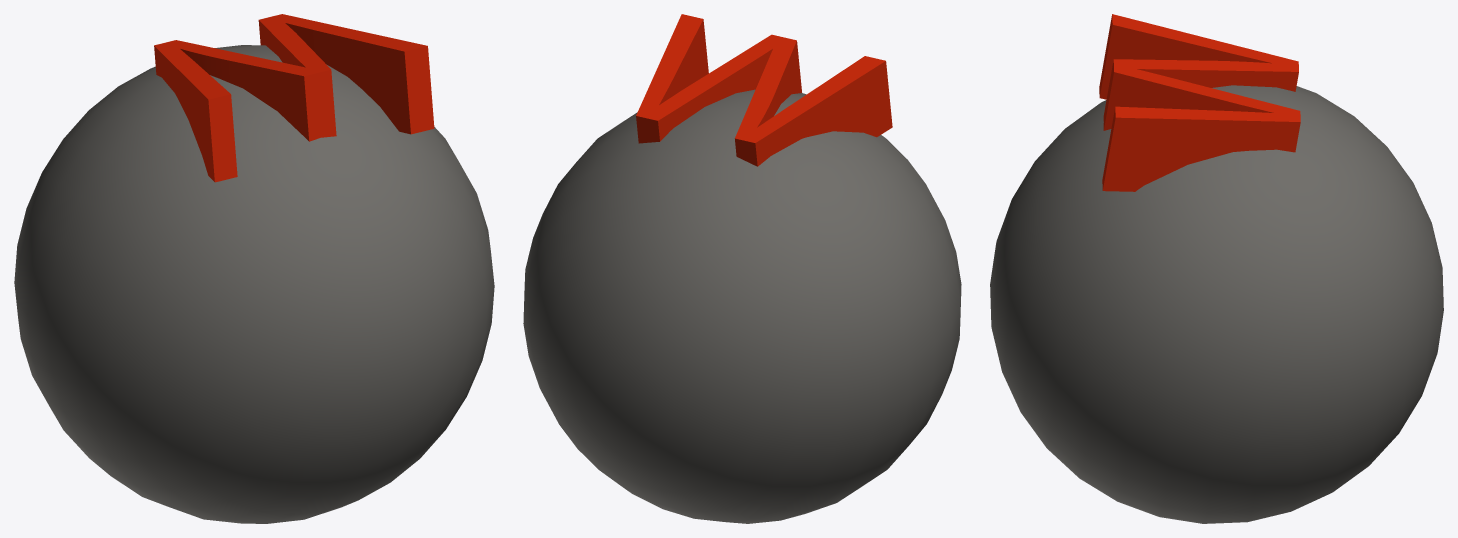
The picture shows the model from 3 angles, left to right: view 1: azimuth 30°, elevation 25°; view 2: azimuth 150°, elevation 25°; view 3: azimuth 270°, elevation 25°; orthographic projection. The views are drawn at different scales.
Parts seen in each view (by area): view 1: W; view 2: W; view 3: W.
Part boxes in pixels (<box>): W: <box>14,14,494,523</box>; W: <box>523,14,961,523</box>; W: <box>990,14,1443,523</box>.
Bounding box in the file's own units: 38.73 × 41.56 × 38.65.
